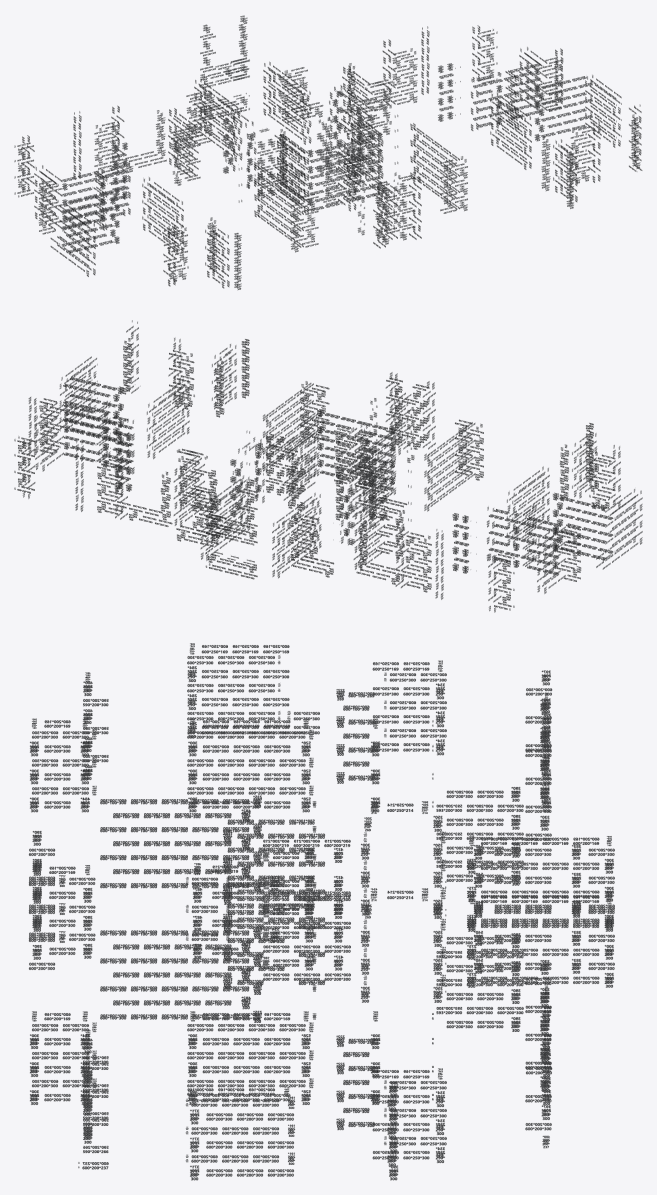
The model's file is labels.glb.
The picture shows the model from 3 angles, top to bottom: view 1: azimuth 30°, elevation 25°; view 2: azimuth 150°, elevation 25°; view 3: azimuth 270°, elevation 25°; orthographic projection. The views are drawn at different scales.
Visible parts, largest first — view 1: L_F02; view 2: L_F02; view 3: L_F02.
Boxes of the visible parts, x1,y1,x2,y2 form: L_F02: (14, 25, 642, 290); L_F02: (14, 320, 642, 612); L_F02: (29, 643, 614, 1180).
Size of the model in its own units: 20.8 by 3.61 by 12.35.
Materials: 1 (1 with a texture image).
